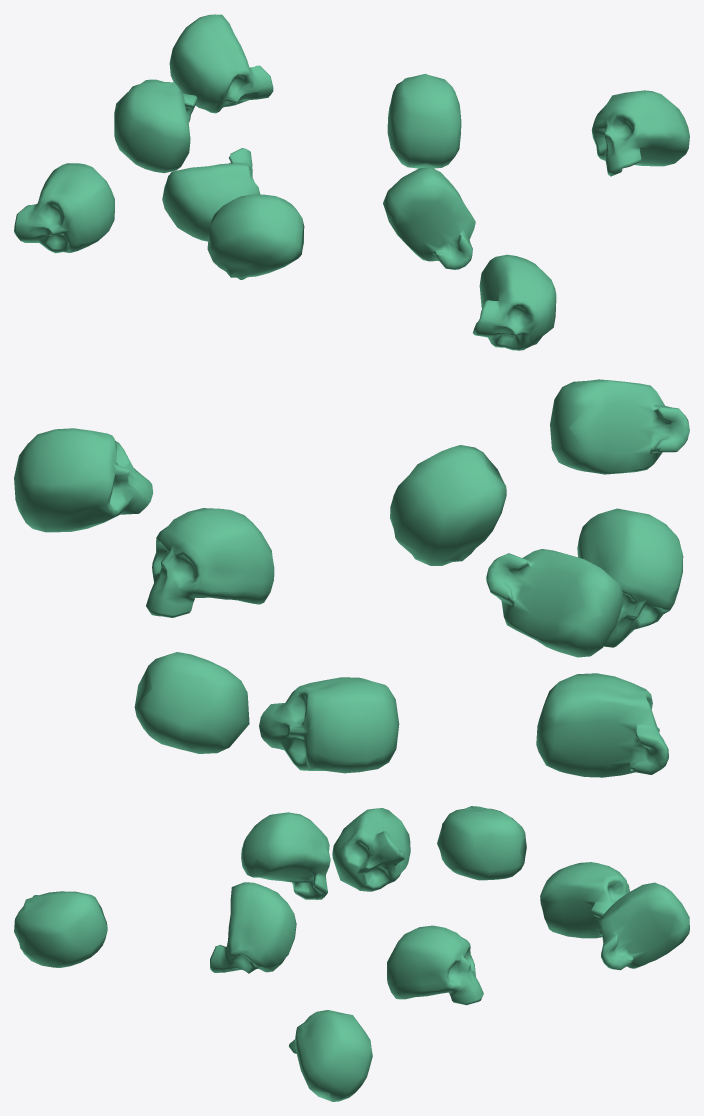
The model's file is Bones_Pile_02_Lod2.fbx.
3 renders of one model, top to bottom at view 1: azimuth 30°, elevation 25°; view 2: azimuth 150°, elevation 25°; view 3: azimuth 270°, elevation 25°, orthographic. The views are drawn at different scales.
Parts seen in each view (by area): view 1: Bones_Pile_02_Lod2; view 2: Bones_Pile_02_Lod2; view 3: Bones_Pile_02_Lod2.
Part boxes in pixels (box(x1,y1,x2,y2)): Bones_Pile_02_Lod2: box(14, 14, 689, 350); Bones_Pile_02_Lod2: box(14, 379, 689, 777); Bones_Pile_02_Lod2: box(14, 806, 689, 1101).
Size of the model in its own units: 124 by 21.11 by 132.
